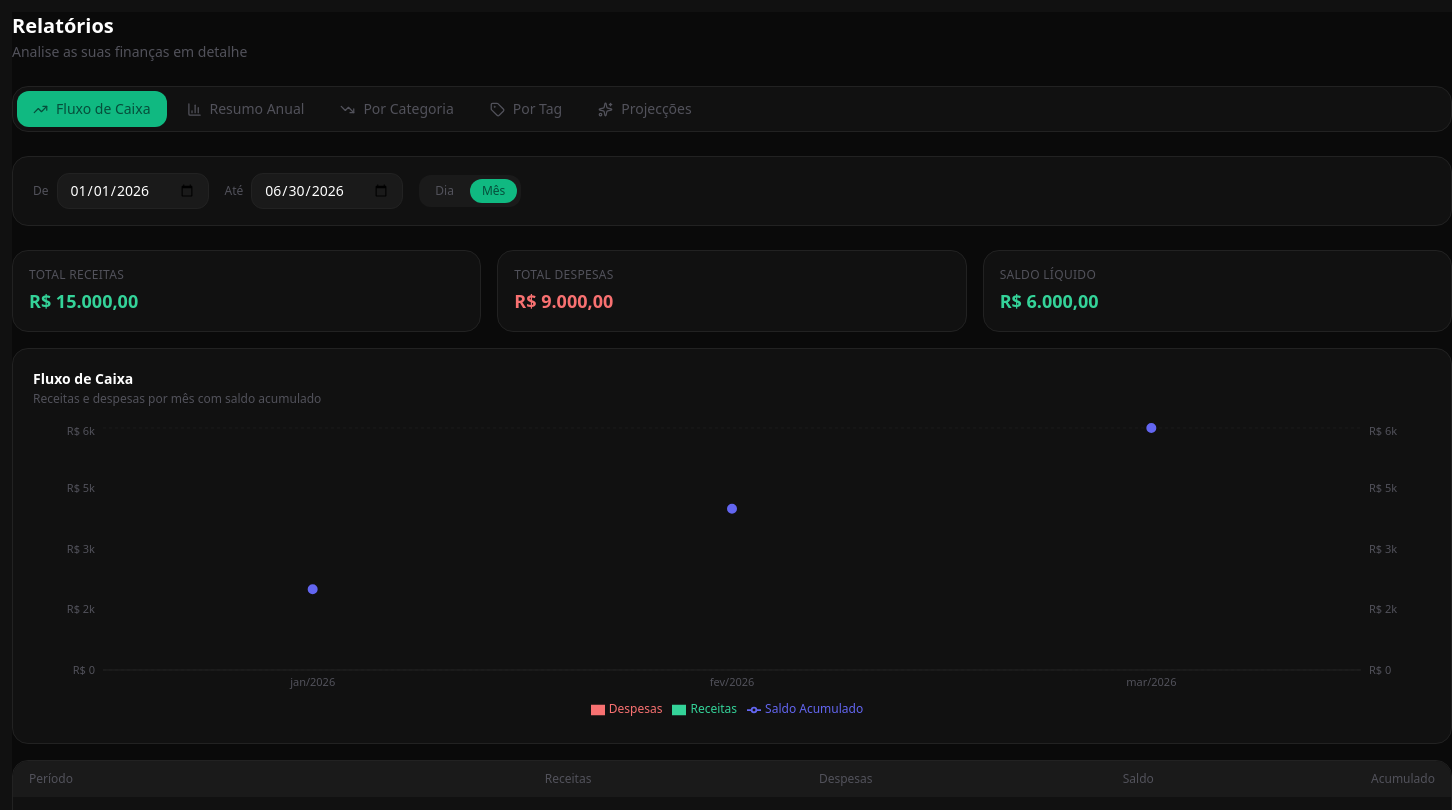
Test case: ReportsPage › deve não exibir filtros de período na tab Resumo Anual
Click the button "Resumo Anual" at (245, 109), box [170, 91, 320, 127]
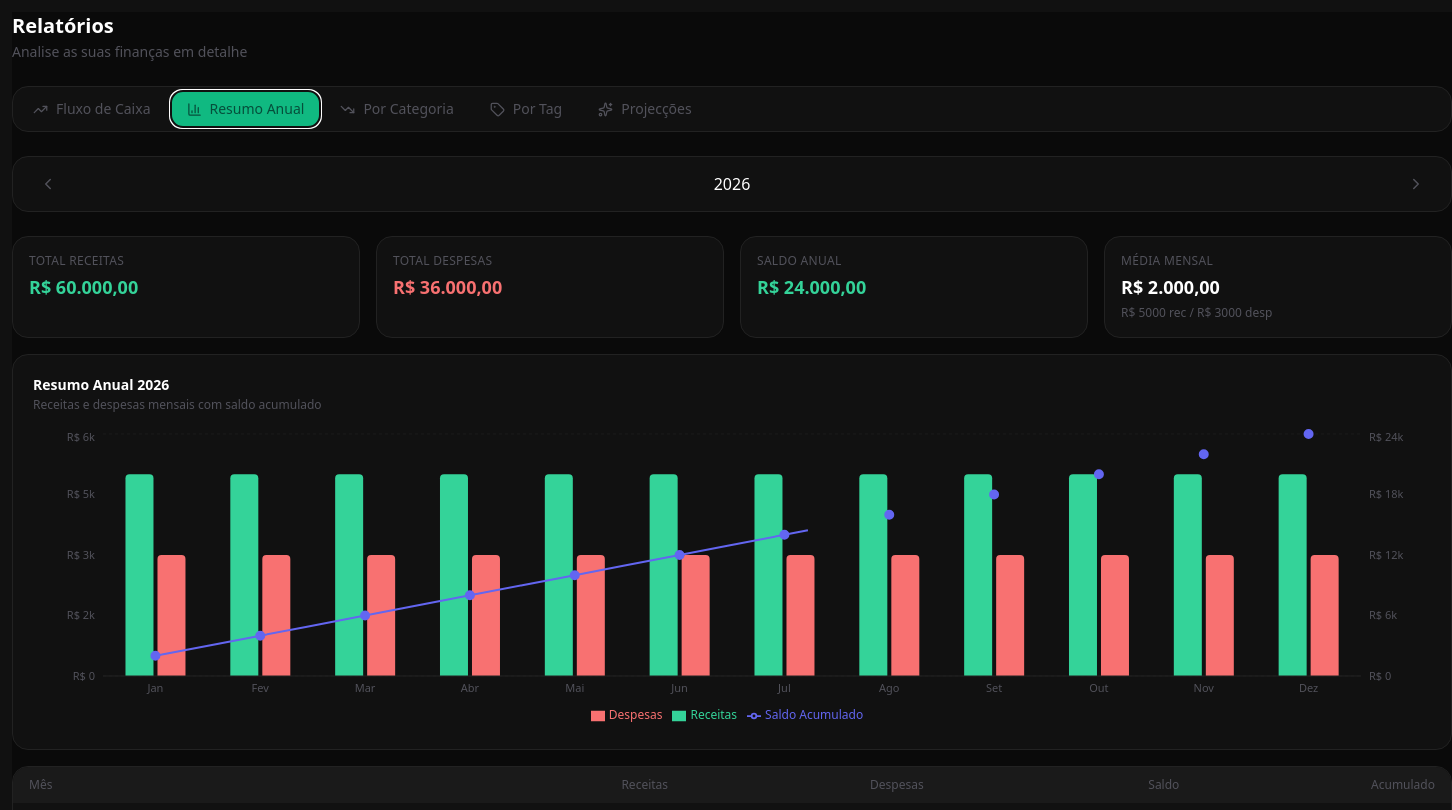
Now the text "Até" is gone
